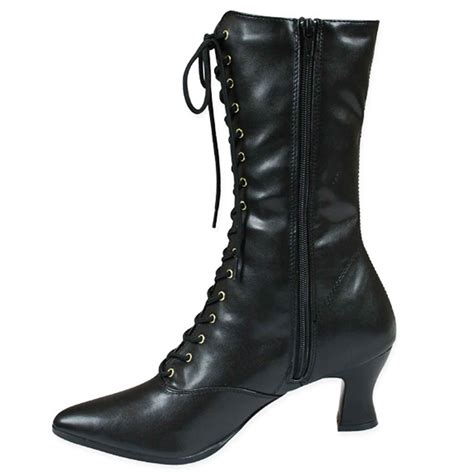cuero: (54, 9, 397, 467)
